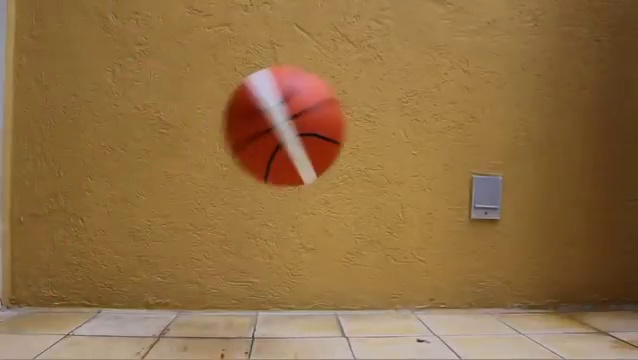ball: (221, 64, 344, 186)
